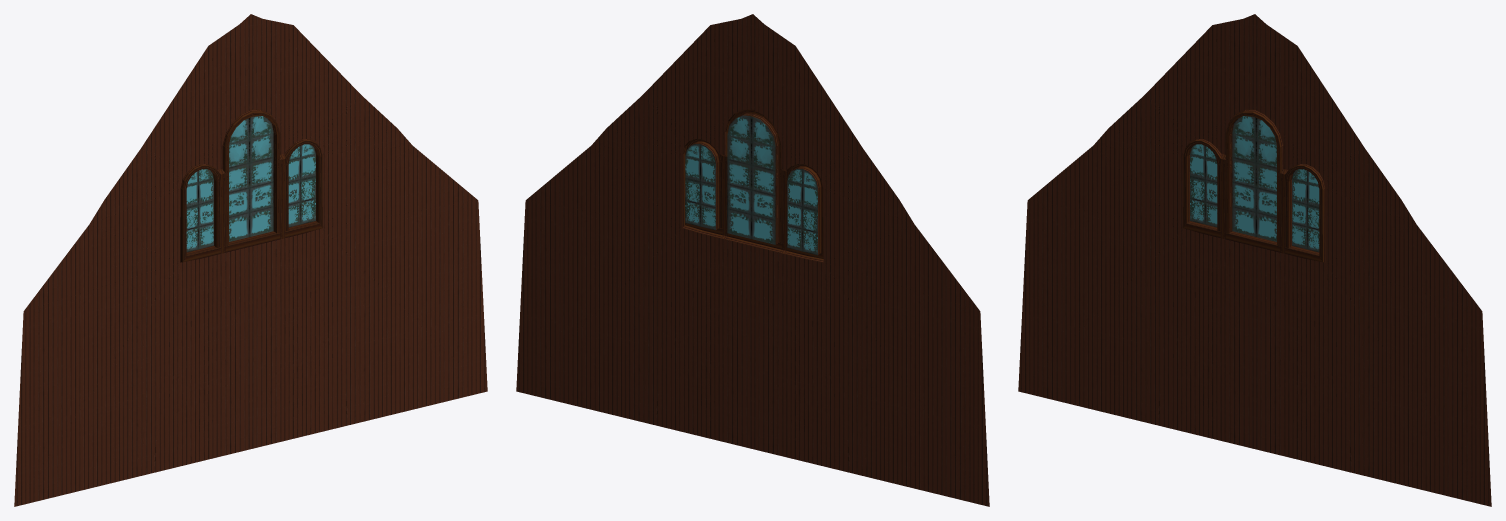
Rendered from Ceilingendcap_romanesque.fbx.
The picture shows the model from 3 angles, left to right: view 1: azimuth 30°, elevation 25°; view 2: azimuth 150°, elevation 25°; view 3: azimuth 330°, elevation 25°; orthographic projection.
Parts seen in each view (by area): view 1: Circle.001; view 2: Circle.001; view 3: Circle.001.
Boxes of the visible parts, bbox=[...] form: Circle.001: bbox=[14, 14, 487, 506]; Circle.001: bbox=[516, 14, 989, 506]; Circle.001: bbox=[1018, 14, 1491, 506].
Size of the model in its own units: 881 by 774 by 10.94.
